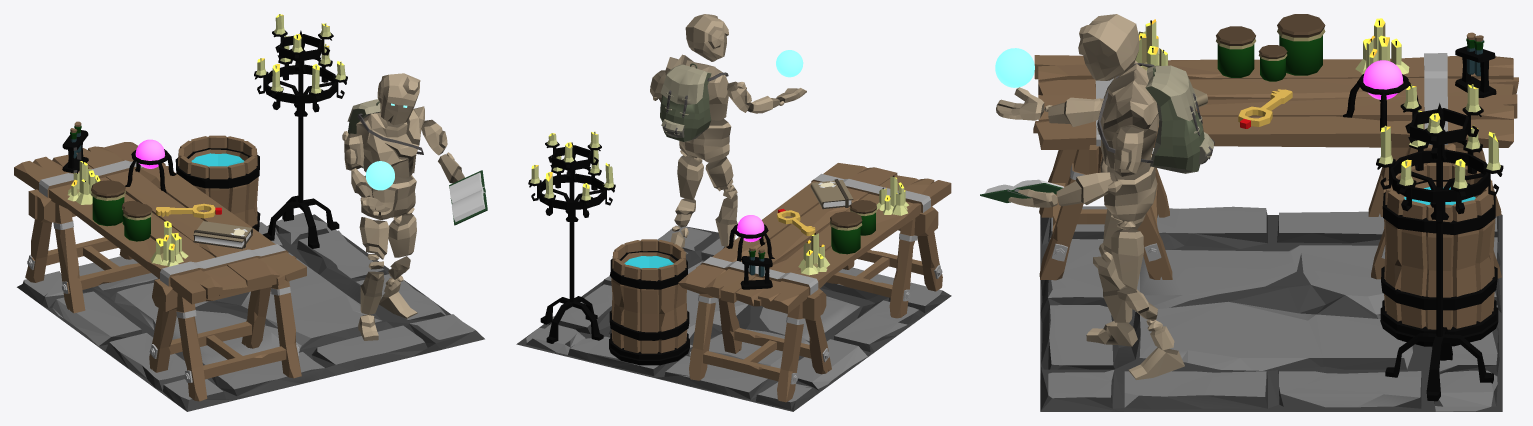
File: WayOutScene.gltf
The picture shows the model from 3 angles, left to right: view 1: azimuth 30°, elevation 25°; view 2: azimuth 150°, elevation 25°; view 3: azimuth 270°, elevation 25°; orthographic projection. The views are drawn at different scales.
Parts seen in each view (by area): view 1: Floor, Table, SM_Prop_Candle_Stand_01, SM_Prop_Barrel_03, Chest, Head, Book_Open, Jar_Full.002, Waist, Cube, UpperLeg.L, UpperLeg.R (+17 smaller); view 2: Table, Floor, SM_Prop_Barrel_03, SM_Prop_Candle_Stand_01, Backpack, Head, Waist, Chest, Jar_Full.002, SM_Item_Vial_01, UpperLeg.R, Cube (+12 smaller); view 3: Floor, Table, SM_Prop_Barrel_03, SM_Prop_Candle_Stand_01, Backpack, Chest, Head, Jar_Full.002, Waist, Jar_Full, UpperLeg.R, SM_Item_Vial_01 (+18 smaller).
Boxes of the visible parts, x1=… form: Floor: x1=17, y1=213, x2=484, y2=411; Table: x1=14, y1=142, x2=306, y2=401; SM_Prop_Candle_Stand_01: x1=254, y1=14, x2=347, y2=248; SM_Prop_Barrel_03: x1=175, y1=135, x2=260, y2=231; Chest: x1=356, y1=106, x2=424, y2=177; Head: x1=377, y1=73, x2=420, y2=125; Book_Open: x1=449, y1=170, x2=487, y2=225; Jar_Full.002: x1=91, y1=180, x2=125, y2=226; Waist: x1=361, y1=175, x2=416, y2=220; Cube: x1=193, y1=221, x2=252, y2=249; UpperLeg.L: x1=359, y1=217, x2=389, y2=269; UpperLeg.R: x1=388, y1=207, x2=416, y2=257; Table: x1=678, y1=163, x2=951, y2=402; Floor: x1=516, y1=225, x2=951, y2=411; SM_Prop_Barrel_03: x1=609, y1=239, x2=689, y2=365; SM_Prop_Candle_Stand_01: x1=528, y1=131, x2=615, y2=343; Backpack: x1=660, y1=63, x2=728, y2=141; Head: x1=685, y1=14, x2=728, y2=61; Waist: x1=679, y1=119, x2=731, y2=162; Chest: x1=665, y1=54, x2=728, y2=120; Jar_Full.002: x1=830, y1=211, x2=862, y2=254; SM_Item_Vial_01: x1=740, y1=246, x2=772, y2=289; UpperLeg.R: x1=677, y1=150, x2=703, y2=200; Cube: x1=810, y1=179, x2=853, y2=209; Floor: x1=1040, y1=206, x2=1502, y2=411; Table: x1=1033, y1=53, x2=1518, y2=280; SM_Prop_Barrel_03: x1=1380, y1=163, x2=1498, y2=346; SM_Prop_Candle_Stand_01: x1=1376, y1=84, x2=1503, y2=401; Backpack: x1=1097, y1=63, x2=1214, y2=173; Chest: x1=1097, y1=64, x2=1159, y2=171; Head: x1=1078, y1=14, x2=1139, y2=80; Jar_Full.002: x1=1277, y1=14, x2=1325, y2=75; Waist: x1=1100, y1=155, x2=1157, y2=221; Jar_Full: x1=1216, y1=26, x2=1255, y2=77; UpperLeg.R: x1=1111, y1=220, x2=1143, y2=289; SM_Item_Vial_01: x1=1455, y1=32, x2=1496, y2=97.
Bounding box in the file's own units: 112 × 91.44 × 126.
